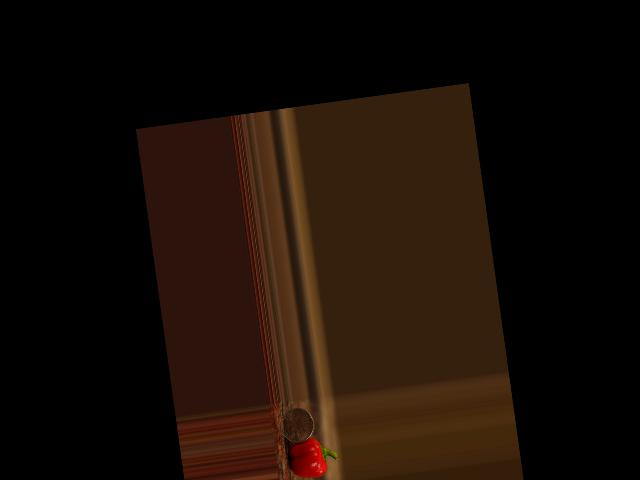bell_pepper: (285, 436, 339, 480)
